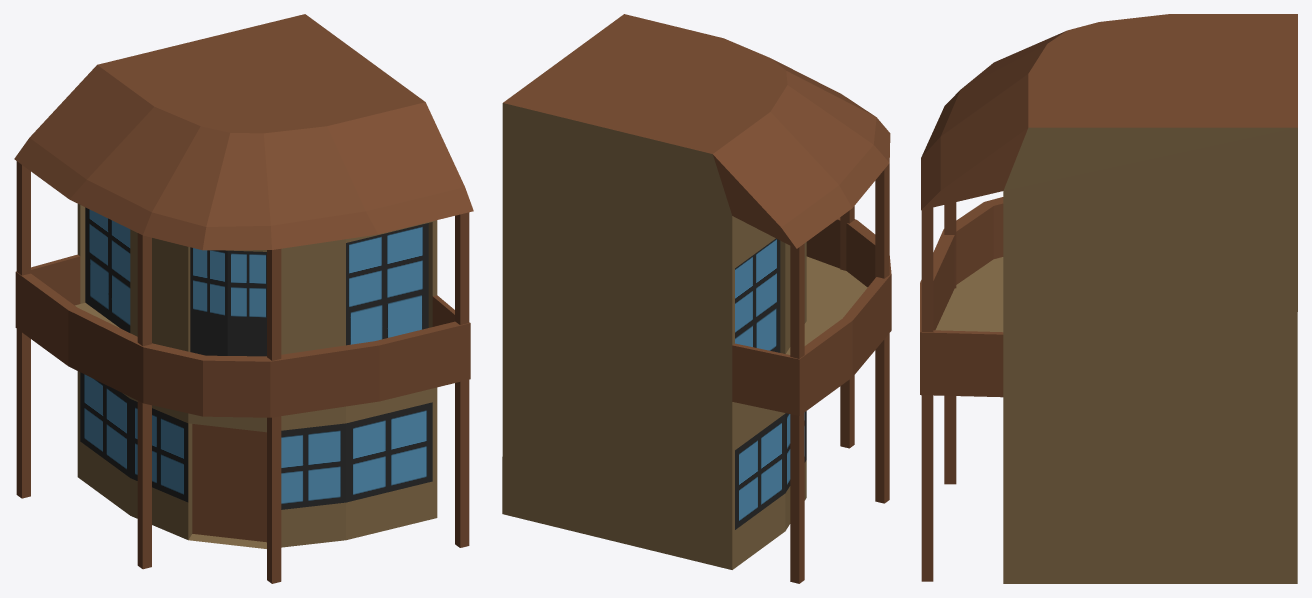
File: JazzCorner4.obj
3 views of the same model, side by side, from view 1: azimuth 30°, elevation 25°; view 2: azimuth 150°, elevation 25°; view 3: azimuth 270°, elevation 25° (orthographic). The views are drawn at different scales.
Visible parts, largest first — view 1: JazzCornerH.003; view 2: JazzCornerH.003; view 3: JazzCornerH.003.
Part boxes in pixels (box(x1,y1,x2,y2)): JazzCornerH.003: box(14, 14, 473, 583); JazzCornerH.003: box(502, 14, 891, 583); JazzCornerH.003: box(920, 14, 1297, 583).
Bounding box in the file's own units: 6.41 × 8.55 × 6.42.
